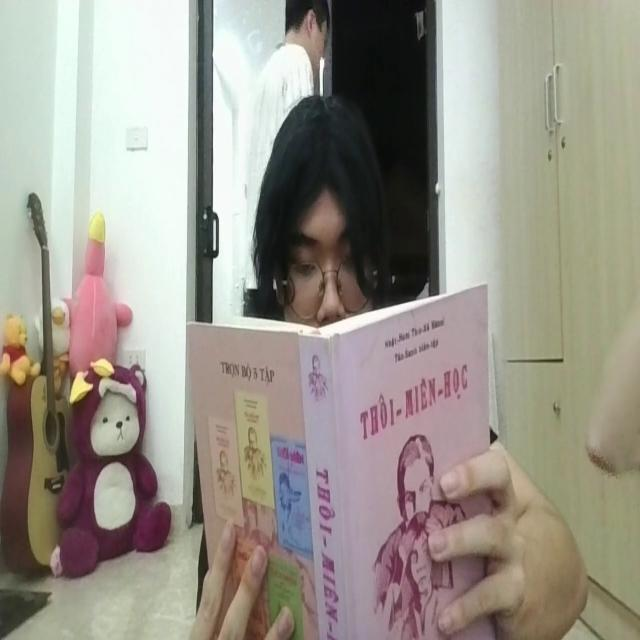book: (186, 280, 490, 640)
extra_person: (252, 2, 332, 103)
student: (256, 95, 376, 329)
